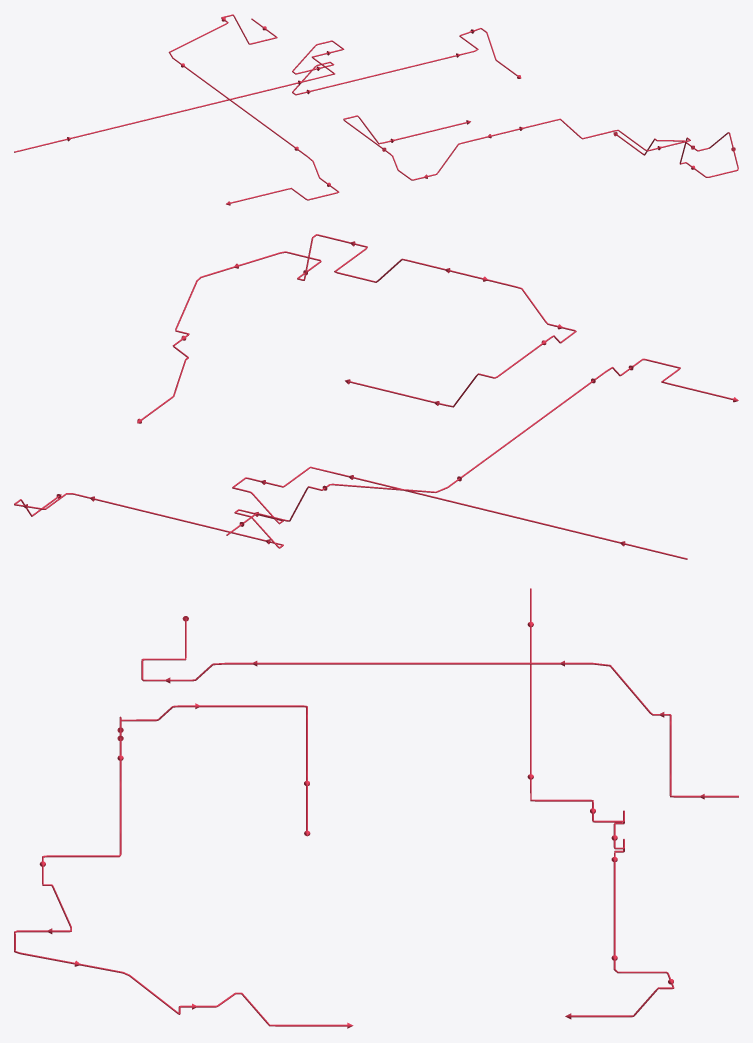
File: Route.fbx
3 renders of one model, top to bottom at view 1: azimuth 30°, elevation 25°; view 2: azimuth 150°, elevation 25°; view 3: azimuth 270°, elevation 25°, orthographic. The views are drawn at different scales.
Visible parts, largest first — view 1: JR嵯峨野線->地下鉄, 京都タワー->近鉄線, 新幹線->地下鉄, 新幹線->JR京都線; view 2: JR嵯峨野線->地下鉄, 新幹線->地下鉄, 京都タワー->近鉄線, 新幹線->JR京都線; view 3: 京都タワー->近鉄線, 新幹線->地下鉄, JR嵯峨野線->地下鉄, 新幹線->JR京都線.
Boxes of the visible parts, <box> form: JR嵯峨野線->地下鉄: <box>14,28,521,152</box>; 京都タワー->近鉄線: <box>168,14,339,205</box>; 新幹線->地下鉄: <box>493,118,738,177</box>; 新幹線->JR京都線: <box>343,115,516,180</box>; JR嵯峨野線->地下鉄: <box>14,466,687,559</box>; 新幹線->地下鉄: <box>137,234,481,423</box>; 京都タワー->近鉄線: <box>226,358,738,535</box>; 新幹線->JR京都線: <box>345,271,576,407</box>; 京都タワー->近鉄線: <box>141,616,738,799</box>; 新幹線->地下鉄: <box>14,739,353,1028</box>; JR嵯峨野線->地下鉄: <box>527,588,674,1019</box>; 新幹線->JR京都線: <box>117,703,310,836</box>.
Bounding box in the file's own units: 28430 × 5500 × 23330.
